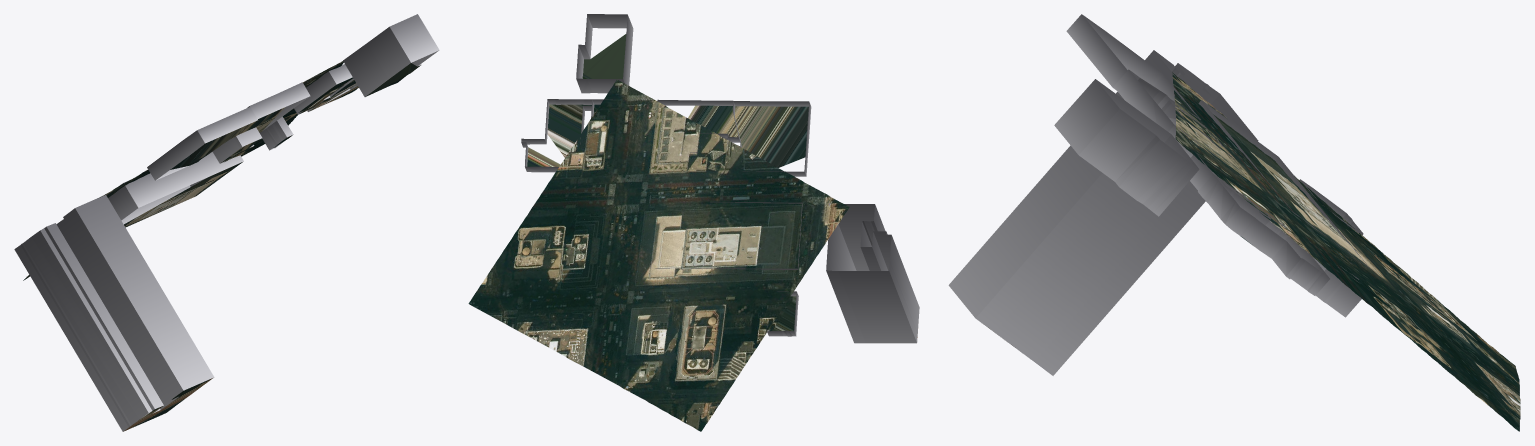
3 renders of one model, left to right at view 1: azimuth 30°, elevation 25°; view 2: azimuth 150°, elevation 25°; view 3: azimuth 270°, elevation 25°, orthographic. The views are drawn at different scales.
Bounding box in the file's own units: 332 × 262 × 291.
1 material, 1 textured.
